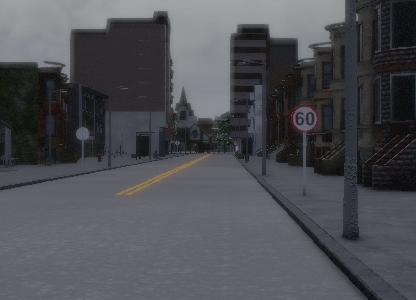Speed_60: (289, 102, 318, 135)
